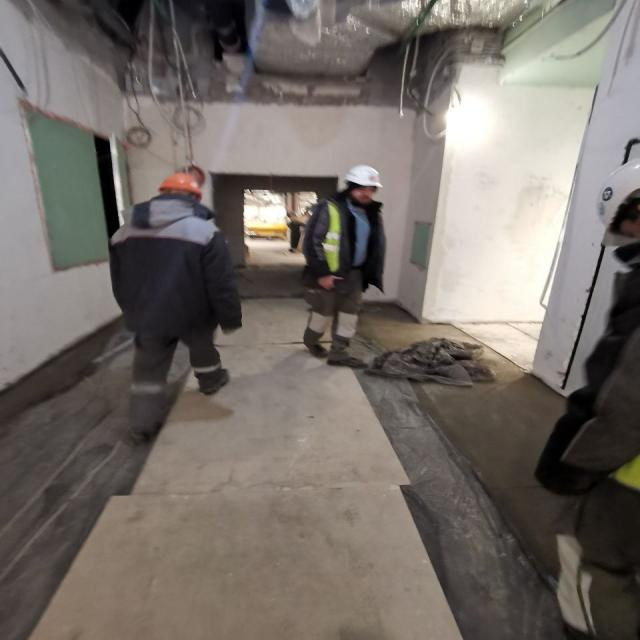Helmet: (599, 160, 640, 252), (157, 175, 204, 199), (345, 167, 386, 189)
Jacket: (314, 199, 382, 283)
NoJacket: (125, 201, 215, 333)
